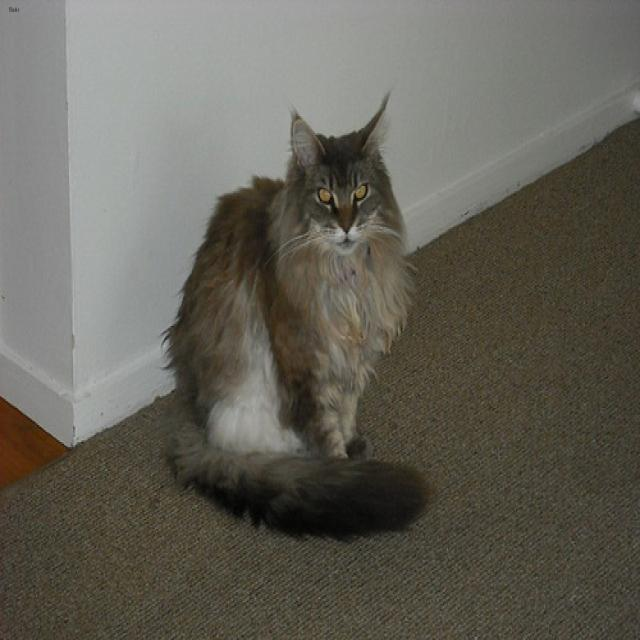Maine_Coon: (289, 92, 387, 253)
